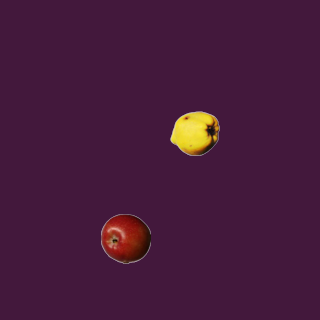Apple Braeburn: (100, 213, 150, 263)
Quince: (169, 108, 219, 158)
